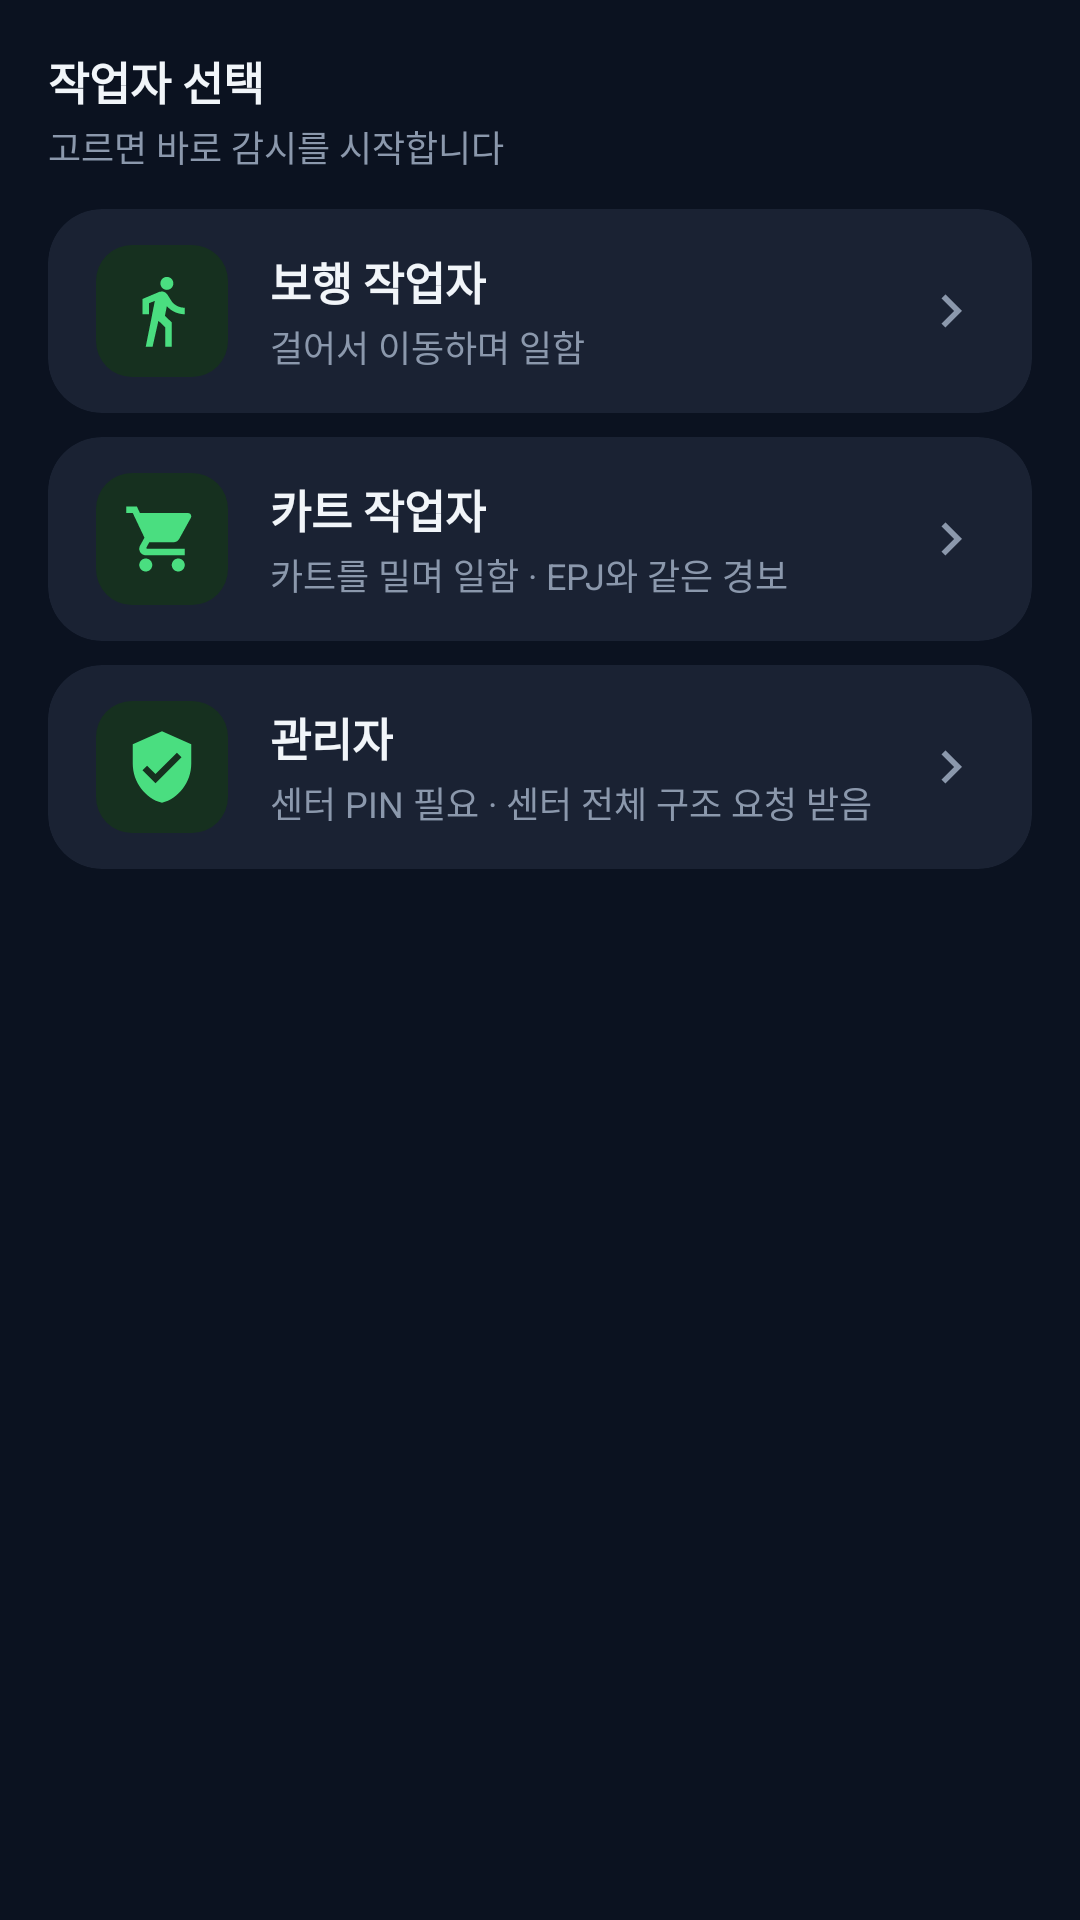

Named icons in this screenshot (1080px×1920px) and their centers, (x=x, y=y):
cart: (x=159, y=539)
shield: (x=162, y=767)
walker: (x=163, y=312)
